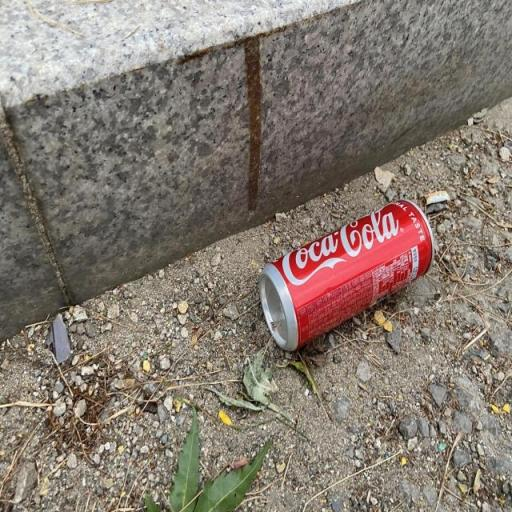metal: (241, 178, 451, 374)
